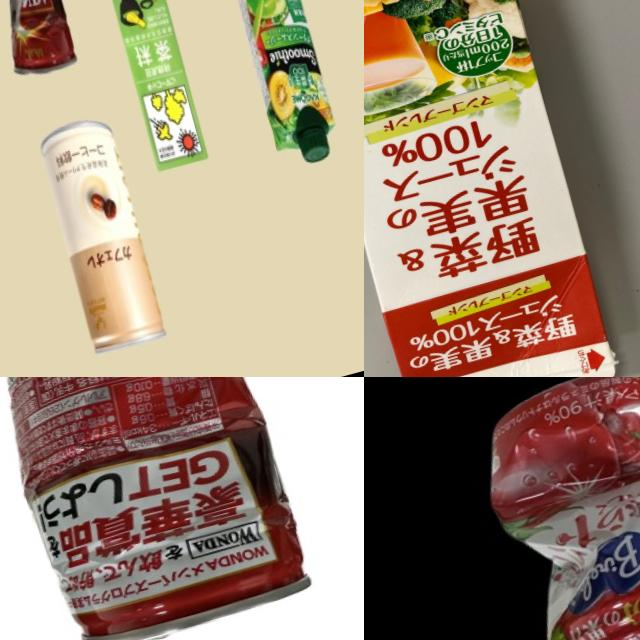Aluminium Foil: (364, 0, 627, 377), (224, 0, 344, 174), (99, 0, 215, 179)
Can: (0, 377, 327, 640), (464, 377, 640, 640), (25, 108, 175, 362), (0, 0, 89, 89)
